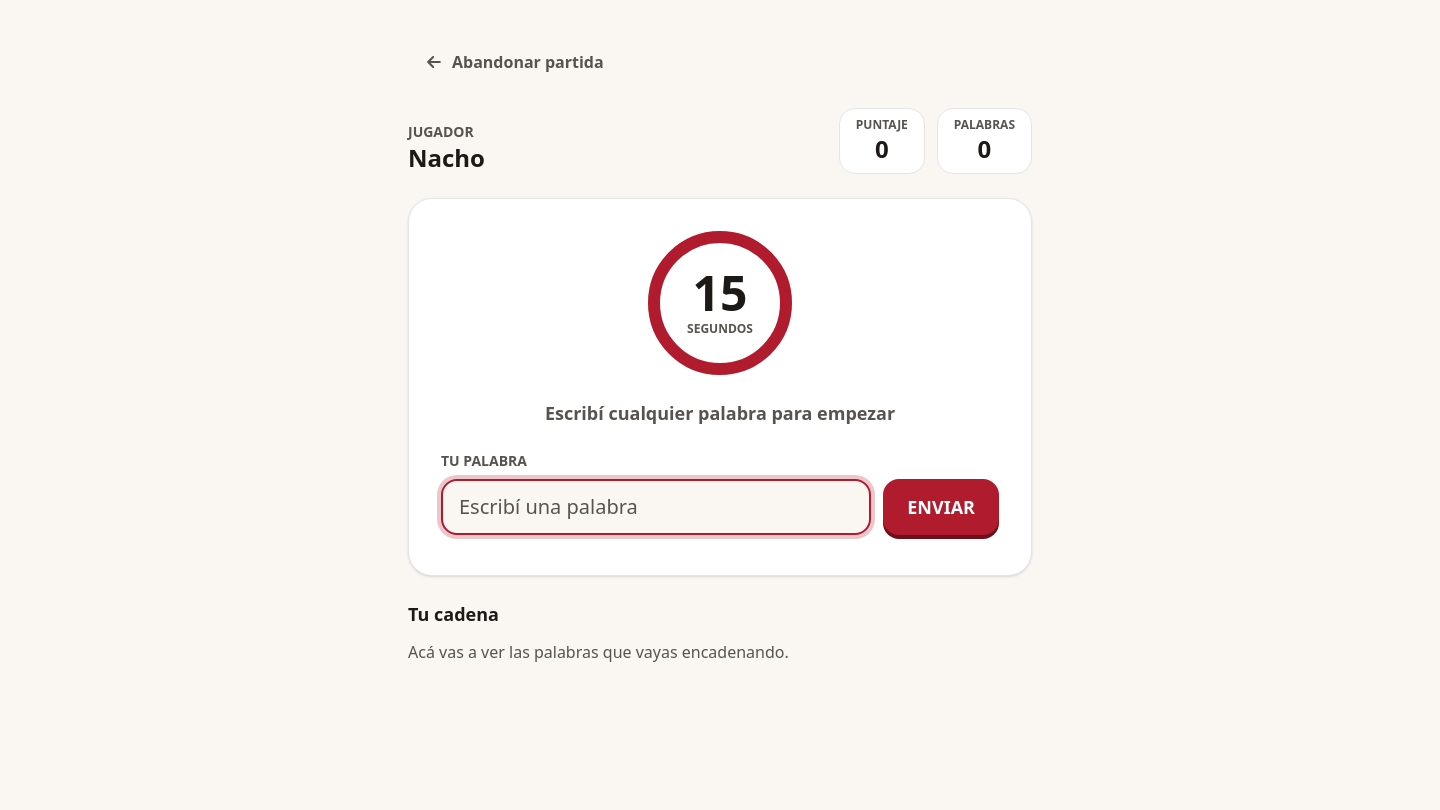
GameScreen abandon button › keeps playing when the player chooses to stay
In the field labelled "Tu palabra": point(656, 507) [441,479,871,535], type "casa"
Then press Enter
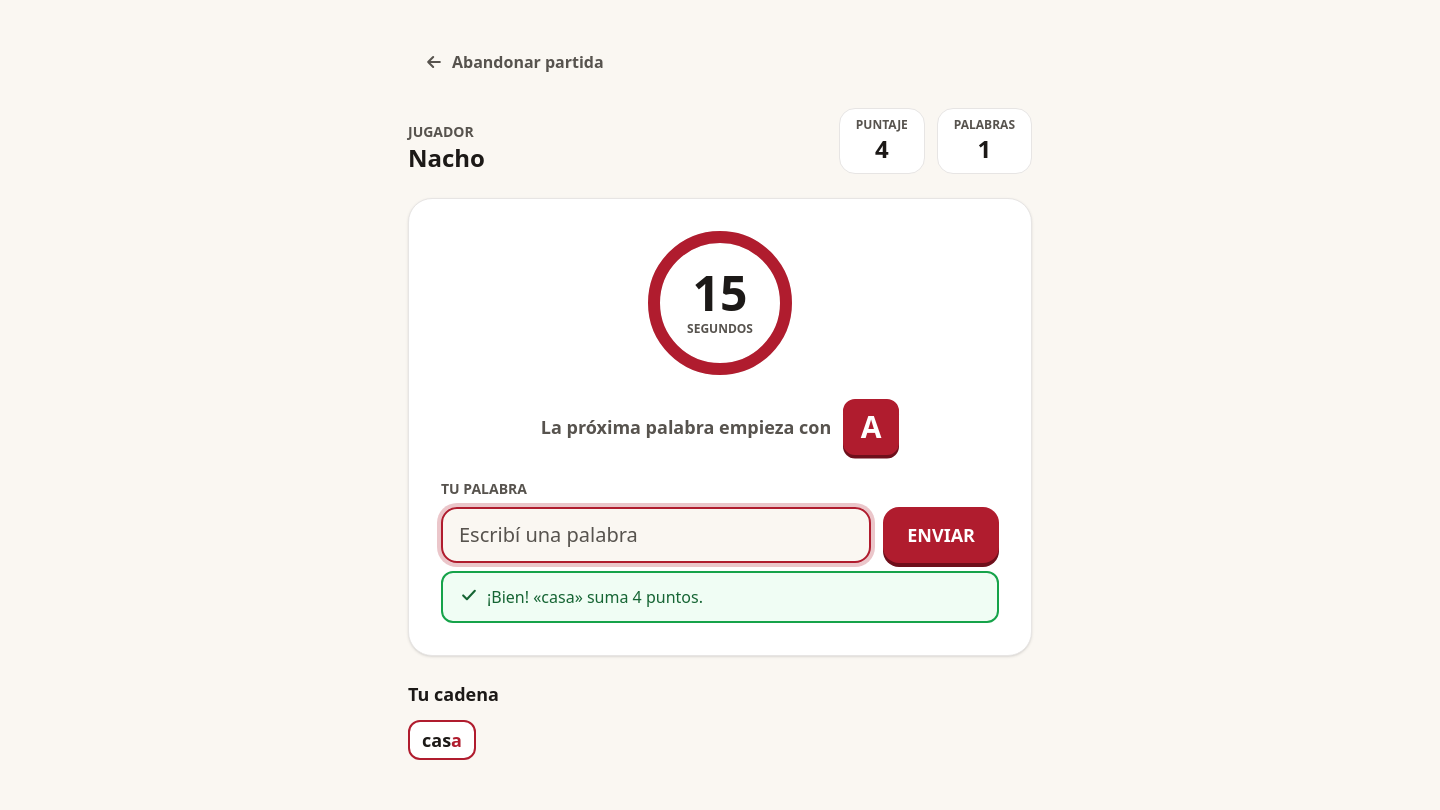
Now the text "¡Bien! «casa»" is shown, box [487,585,703,609]
Click the button "Abandonar partida": point(514, 62) [408,40,620,84]
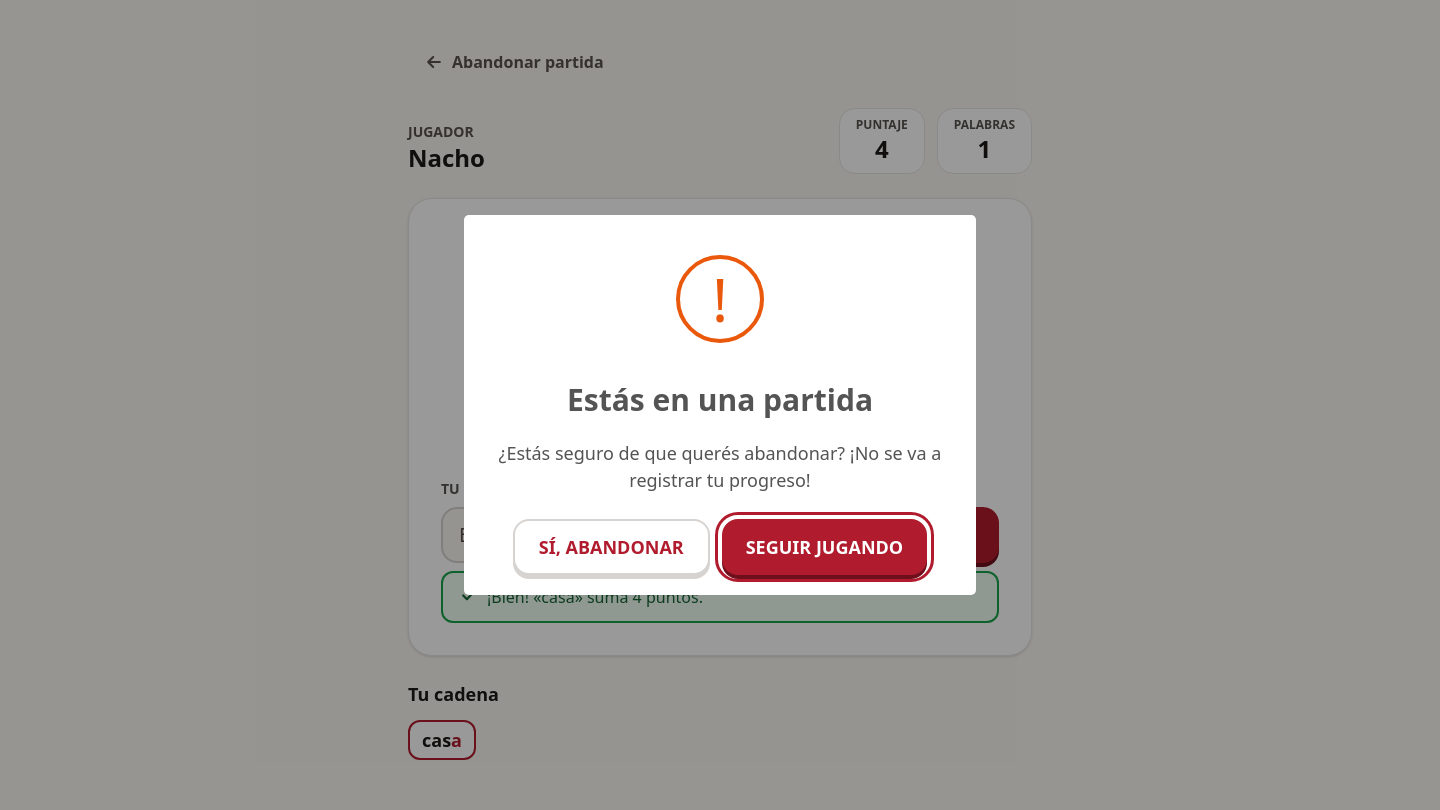
Click the button "Seguir jugando": point(824, 547) [722,519,927,575]
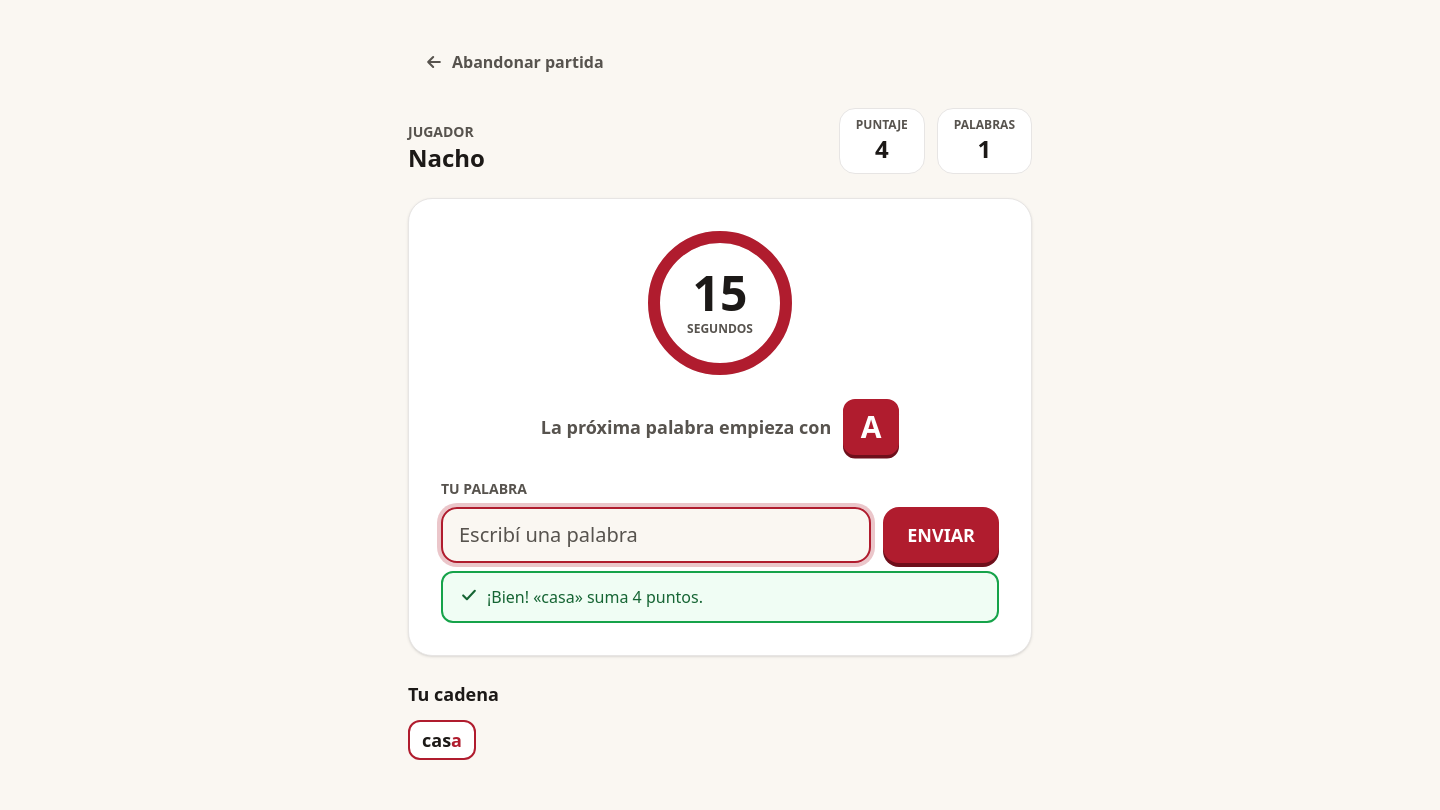
Now the dialog is gone
